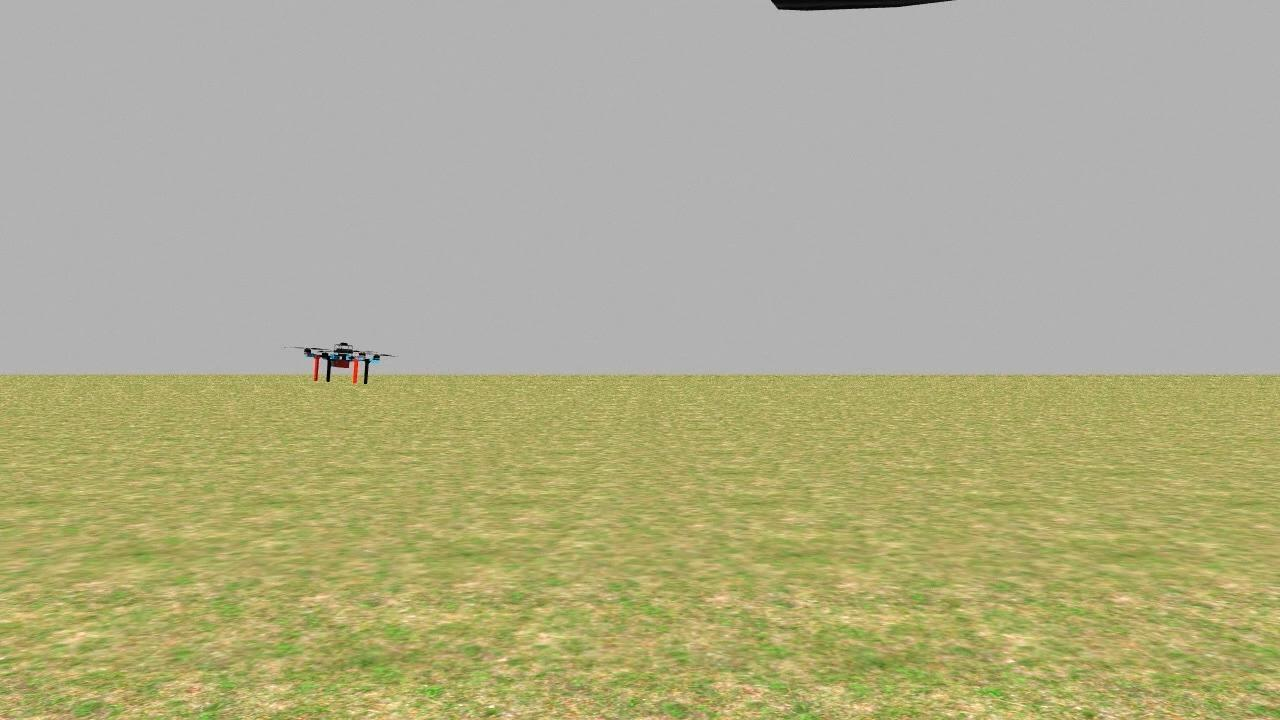UAV: (282, 319, 398, 394)
